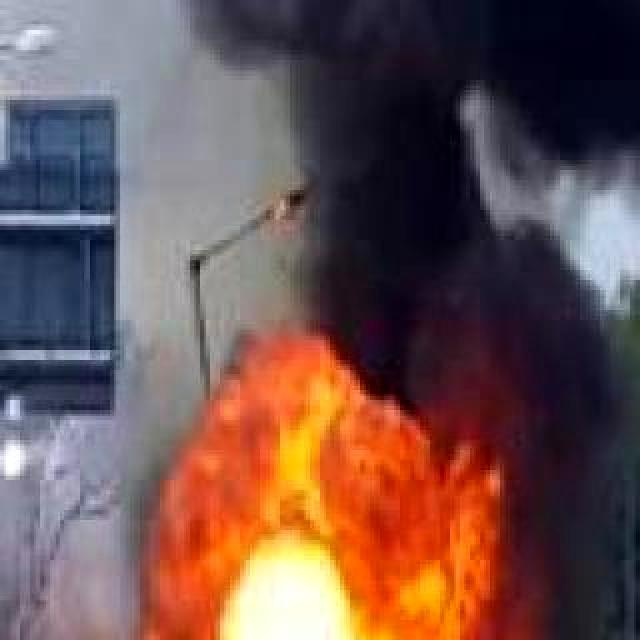fire: (160, 430, 530, 640)
